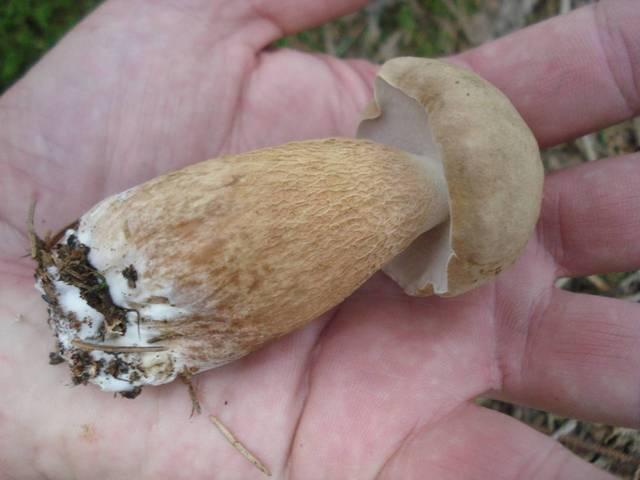poisonous_mushroom: (25, 54, 545, 414)
